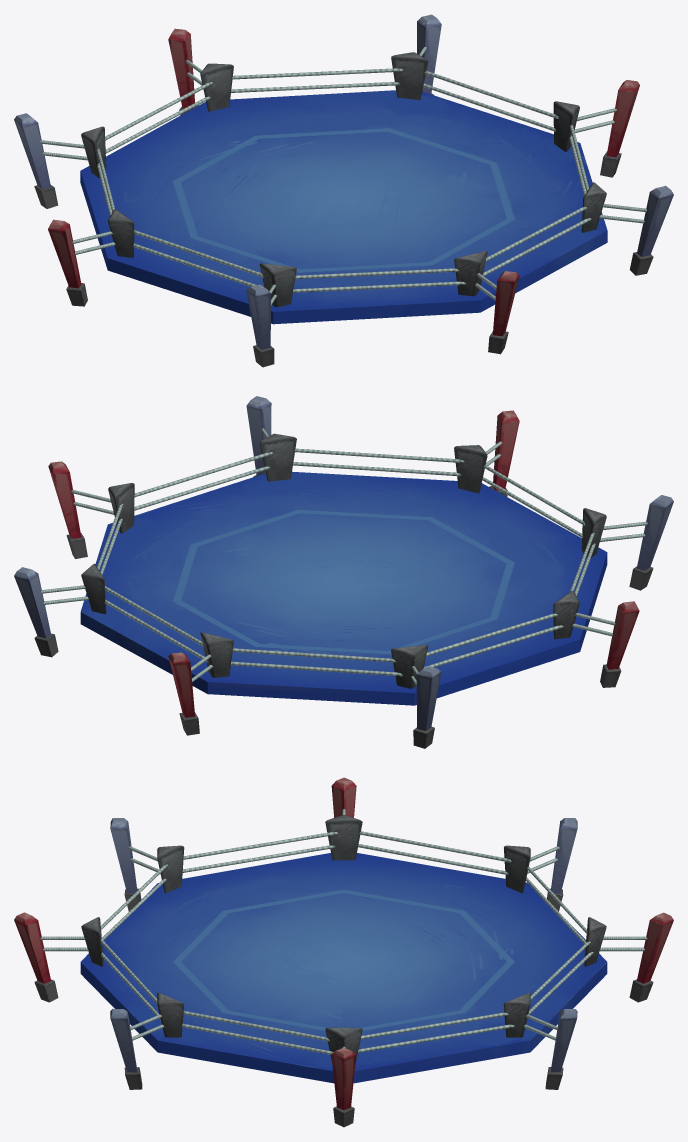
Rendered from RingReference.fbx.
The picture shows the model from 3 angles, top to bottom: view 1: azimuth 30°, elevation 25°; view 2: azimuth 150°, elevation 25°; view 3: azimuth 270°, elevation 25°; orthographic projection. The views are drawn at different scales.
Visible parts, largest first — view 1: SM_RingBase; view 2: SM_RingBase; view 3: SM_RingBase.
Boxes of the visible parts, left/top/right/bottom form: SM_RingBase: left=14, top=14, right=673, bottom=367; SM_RingBase: left=14, top=396, right=673, bottom=748; SM_RingBase: left=14, top=777, right=673, bottom=1127.
Bounding box in the file's own units: 2759 × 386 × 2759.
